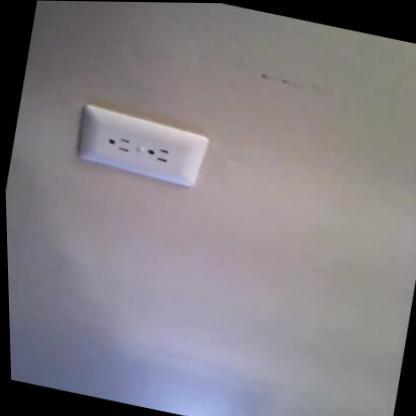OUTLET: (74, 104, 213, 186)
